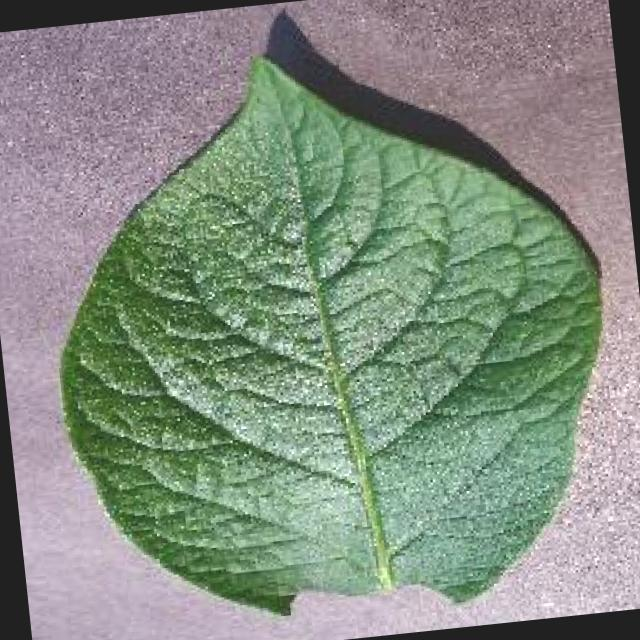healthy: (64, 59, 601, 611)
